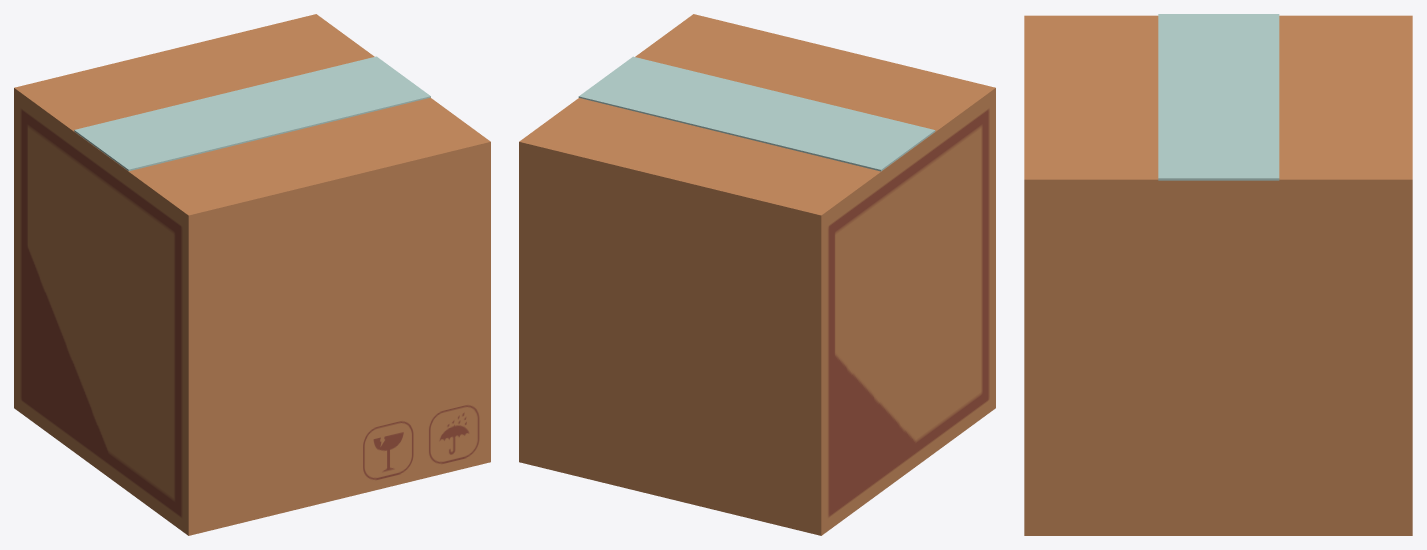
Rendered from rac.fbx.
The picture shows the model from 3 angles, left to right: view 1: azimuth 30°, elevation 25°; view 2: azimuth 150°, elevation 25°; view 3: azimuth 270°, elevation 25°; orthographic projection. The views are drawn at different scales.
Parts seen in each view (by area): view 1: than, canh, canh2, bang_dinh; view 2: than, canh, canh2, bang_dinh, canh1; view 3: than, canh2, canh, bang_dinh, canh1.
Part boxes in pixels (x1=…): than: x1=14, y1=92, x2=490, y2=535; canh: x1=14, y1=51, x2=339, y2=219; canh2: x1=165, y1=14, x2=490, y2=182; bang_dinh: x1=74, y1=56, x2=430, y2=171; than: x1=519, y1=92, x2=995, y2=535; canh: x1=670, y1=51, x2=995, y2=219; canh2: x1=519, y1=14, x2=844, y2=182; bang_dinh: x1=578, y1=56, x2=935, y2=171; canh1: x1=519, y1=142, x2=864, y2=219; than: x1=1024, y1=184, x2=1412, y2=535; canh2: x1=1024, y1=97, x2=1412, y2=184; canh: x1=1024, y1=15, x2=1412, y2=97; bang_dinh: x1=1158, y1=14, x2=1279, y2=180; canh1: x1=1315, y1=180, x2=1412, y2=184.
Size of the model in its own units: 1 by 1.02 by 1.
